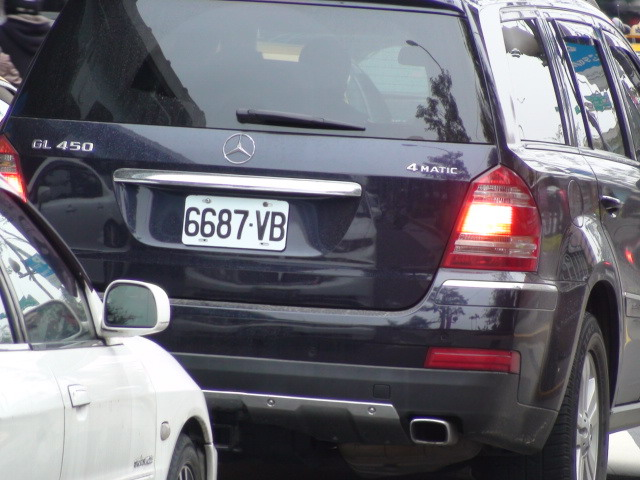plate: (182, 192, 291, 253)
